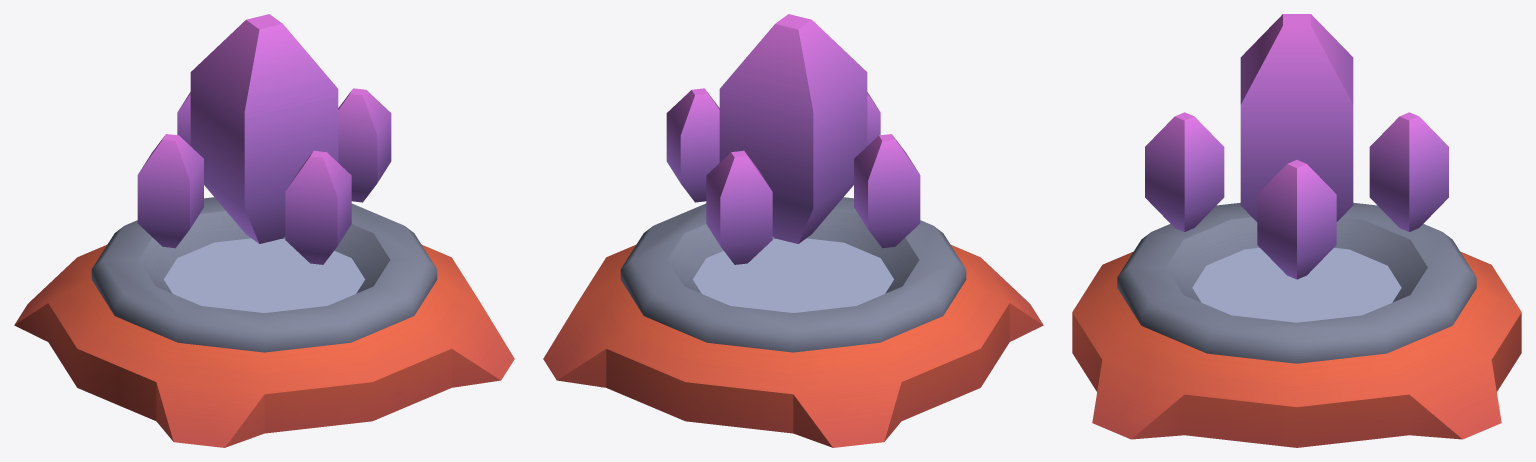
The model's file is tower-round-crystals.fbx.
3 views of the same model, side by side, from view 1: azimuth 30°, elevation 25°; view 2: azimuth 150°, elevation 25°; view 3: azimuth 270°, elevation 25° (orthographic). The views are drawn at different scales.
Visible parts, largest first — view 1: tower-round-crystals, crystal, crystal-small_2, crystal-small_3, crystal-small_1, crystal-small; view 2: tower-round-crystals, crystal, crystal-small, crystal-small_3, crystal-small_1, crystal-small_2; view 3: tower-round-crystals, crystal, crystal-small_1, crystal-small, crystal-small_2.
Boxes of the visible parts, bbox=[...] form: tower-round-crystals: bbox=[14, 197, 514, 447]; crystal: bbox=[190, 14, 338, 243]; crystal-small_2: bbox=[285, 150, 351, 264]; crystal-small_3: bbox=[137, 134, 203, 248]; crystal-small_1: bbox=[338, 88, 391, 202]; crystal-small: bbox=[177, 92, 190, 145]; tower-round-crystals: bbox=[543, 197, 1043, 447]; crystal: bbox=[719, 14, 867, 243]; crystal-small: bbox=[706, 150, 772, 264]; crystal-small_3: bbox=[854, 134, 920, 248]; crystal-small_1: bbox=[666, 88, 719, 202]; crystal-small_2: bbox=[867, 92, 880, 145]; tower-round-crystals: bbox=[1072, 202, 1521, 447]; crystal: bbox=[1240, 14, 1353, 221]; crystal-small_1: bbox=[1257, 160, 1336, 279]; crystal-small: bbox=[1369, 112, 1448, 231]; crystal-small_2: bbox=[1145, 112, 1224, 231].
Size of the model in its own units: 100 by 81.75 by 100.
